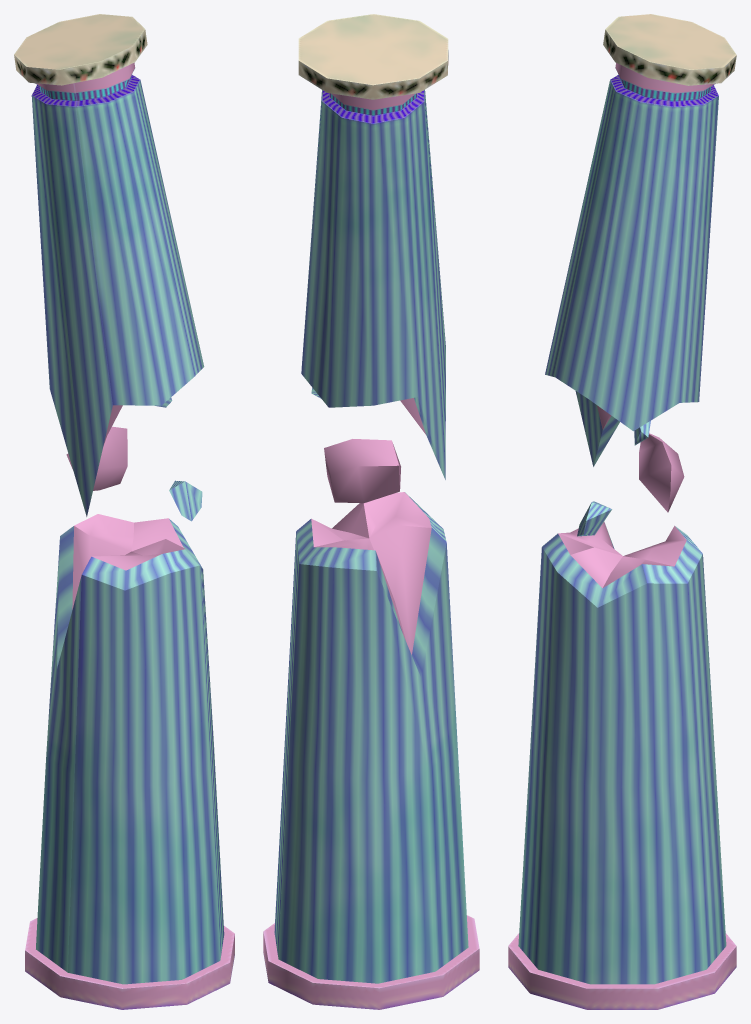
The model's file is Structure_Vapor_Column_03_Art.fbx.
3 renders of one model, left to right at view 1: azimuth 30°, elevation 25°; view 2: azimuth 150°, elevation 25°; view 3: azimuth 270°, elevation 25°, orthographic. The views are drawn at different scales.
Visible parts, largest first — view 1: Structure_Vapor_Column_03_Art, Structure_Vapor_Column_02_Top, Structure_Vapor_Column_02_Rock_01, Structure_Vapor_Column_02_Rock_03; view 2: Structure_Vapor_Column_03_Art, Structure_Vapor_Column_02_Top, Structure_Vapor_Column_02_Rock_01; view 3: Structure_Vapor_Column_03_Art, Structure_Vapor_Column_02_Top, Structure_Vapor_Column_02_Rock_01, Structure_Vapor_Column_02_Rock_03.
Boxes of the visible parts, x1,y1,x2,y2 form: Structure_Vapor_Column_03_Art: (25, 514, 234, 1009); Structure_Vapor_Column_02_Top: (14, 14, 204, 516); Structure_Vapor_Column_02_Rock_01: (66, 426, 127, 490); Structure_Vapor_Column_02_Rock_03: (169, 480, 202, 521); Structure_Vapor_Column_03_Art: (263, 492, 479, 1009); Structure_Vapor_Column_02_Top: (298, 14, 448, 479); Structure_Vapor_Column_02_Rock_01: (324, 439, 400, 503); Structure_Vapor_Column_03_Art: (508, 521, 736, 1009); Structure_Vapor_Column_02_Top: (545, 14, 736, 466); Structure_Vapor_Column_02_Rock_01: (639, 433, 684, 512); Structure_Vapor_Column_02_Rock_03: (577, 501, 612, 536).
Bounding box in the file's own units: 1.71 × 8.54 × 1.92.
